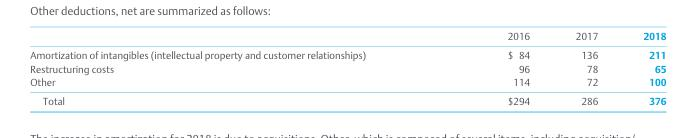table: (29, 29, 665, 106)
table column: (29, 29, 435, 106), (435, 29, 554, 106), (554, 29, 620, 106), (620, 29, 665, 106)
table column header: (29, 29, 665, 44)
table row: (29, 44, 665, 61), (29, 74, 665, 90), (29, 90, 665, 106), (29, 29, 665, 44), (29, 61, 665, 74)
